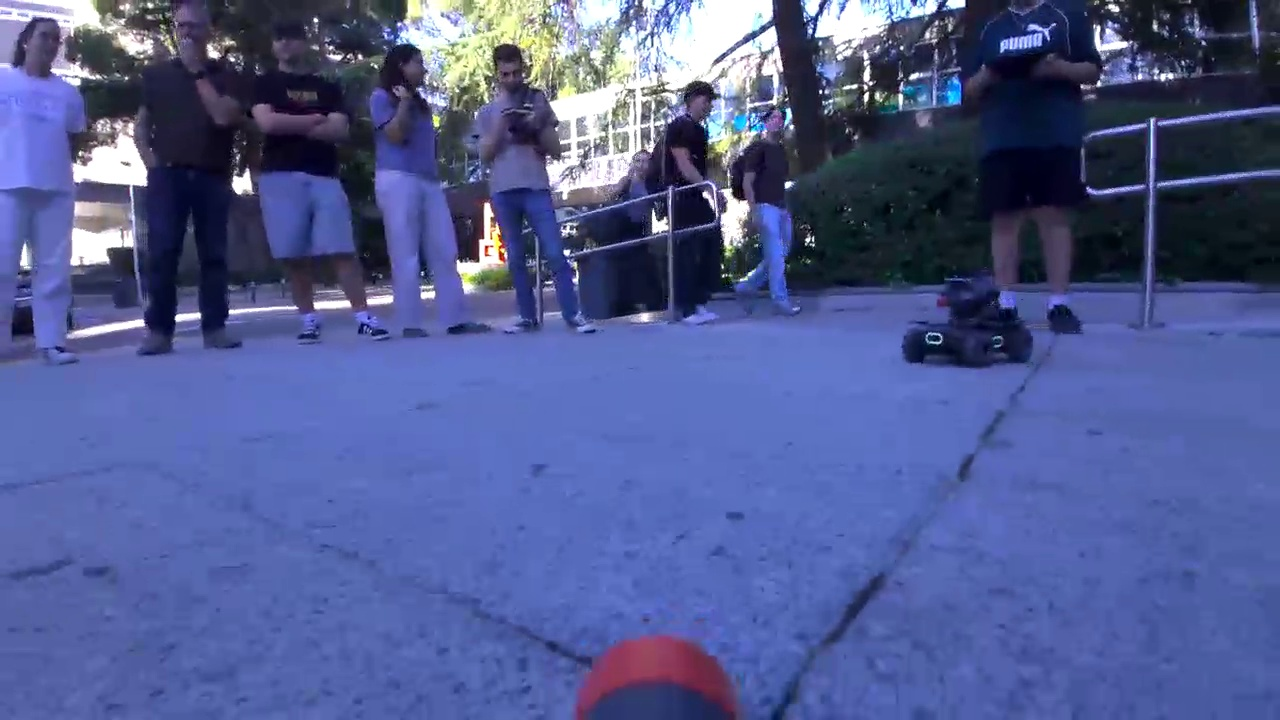robot: (901, 269, 1037, 376)
